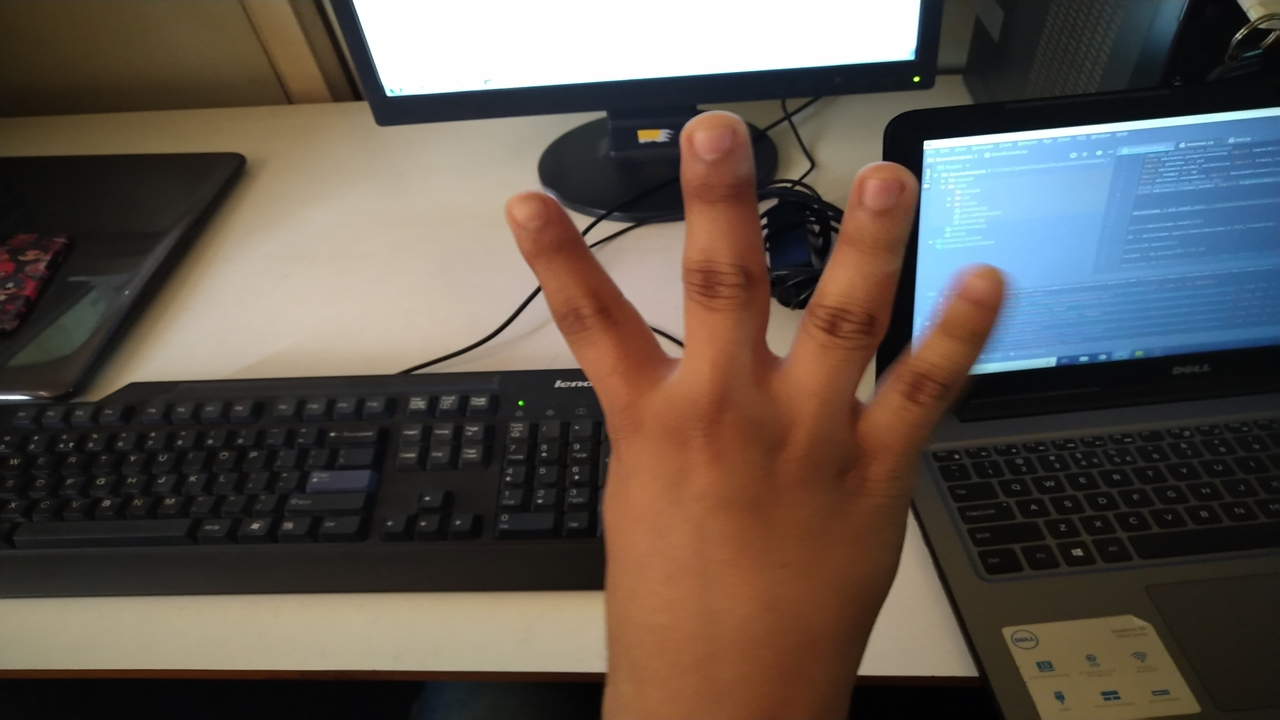fingertip: (672, 106, 760, 182), (846, 152, 920, 222), (494, 184, 560, 238), (956, 264, 1014, 314)
